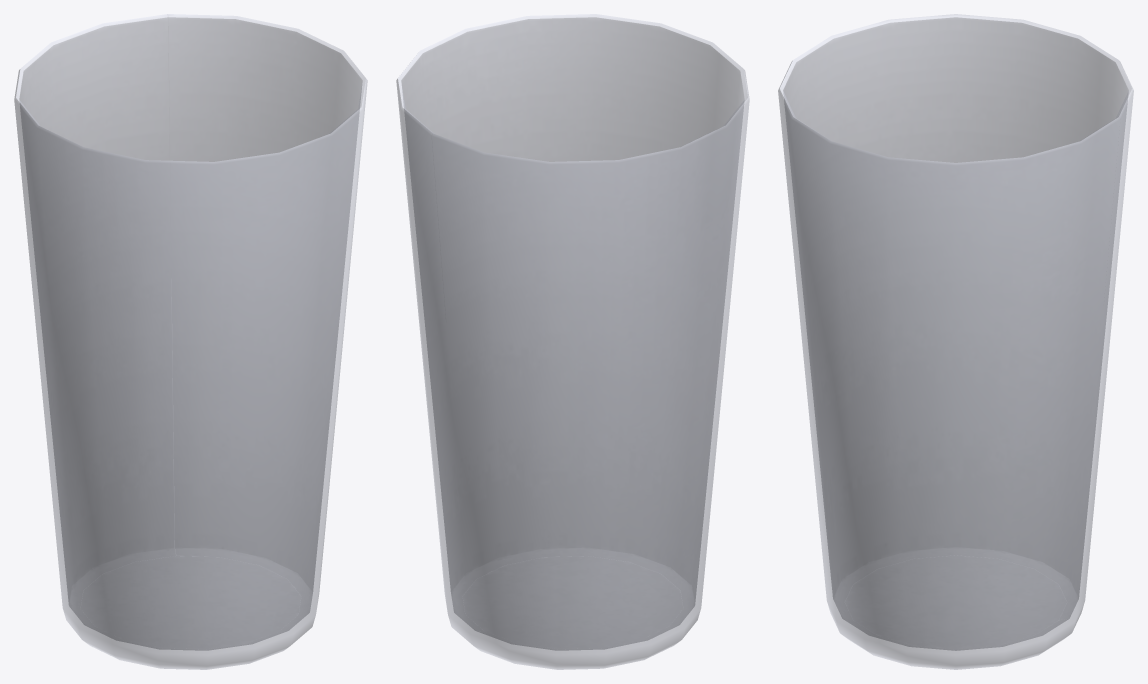
Rendered from SM_Pint_Glass_02.glb.
3 views of the same model, side by side, from view 1: azimuth 30°, elevation 25°; view 2: azimuth 150°, elevation 25°; view 3: azimuth 270°, elevation 25° (orthographic).
Parts seen in each view (by area): view 1: SM_Pint_Glass_02; view 2: SM_Pint_Glass_02; view 3: SM_Pint_Glass_02.
Boxes of the visible parts, x1,y1,x2,y2 form: SM_Pint_Glass_02: [14, 14, 367, 669]; SM_Pint_Glass_02: [396, 14, 749, 669]; SM_Pint_Glass_02: [778, 14, 1133, 669].
Size of the model in its own units: 0.1033 by 0.1705 by 0.1033.
1 material, 1 textured.
